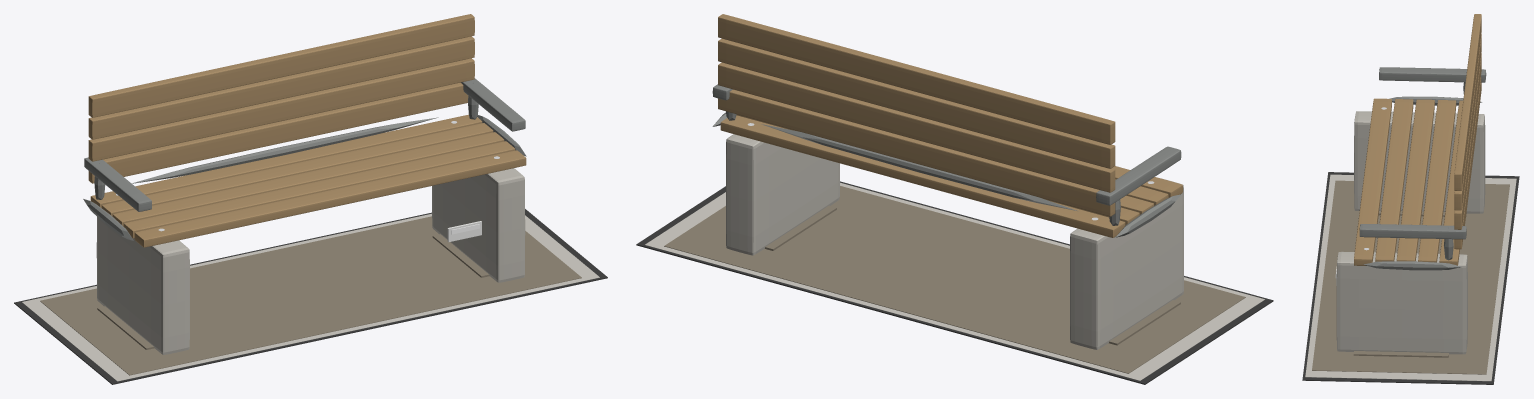
The model's file is hm_prop_bench_v2.glb.
3 views of the same model, side by side, from view 1: azimuth 30°, elevation 25°; view 2: azimuth 150°, elevation 25°; view 3: azimuth 270°, elevation 25° (orthographic). The views are drawn at different scales.
Parts seen in each view (by area): view 1: hm_prop_bench_v2_Dirt, Bench_Back_3, Bench_Leg_-1, Bench_Back_2, Bench_Back_1, Bench_Back_0, Bench_Leg_1, Bench_Seat_0, hm_prop_bench_v2_SaltRing, Bench_Seat_1, Bench_Seat_2, Bench_Seat_3 (+8 smaller); view 2: hm_prop_bench_v2_Dirt, Bench_Leg_-1, Bench_Back_3, Bench_Leg_1, Bench_Back_2, Bench_Back_1, Bench_Back_0, Bench_Seat_4, hm_prop_bench_v2_SaltRing, hm_prop_bench_v2_Shadow, Bench_Rail, Bench_Arm_-1 (+4 smaller); view 3: hm_prop_bench_v2_Dirt, Bench_Leg_1, hm_prop_bench_v2_SaltRing, Bench_Leg_-1, Bench_Seat_0, Bench_Seat_1, Bench_Seat_3, Bench_Seat_2, hm_prop_bench_v2_Shadow, Bench_Back_3, Bench_Arm_1, Bench_Arm_-1 (+8 smaller).
Part boxes in pixels (bbox=[...]): hm_prop_bench_v2_Dirt: bbox=[40, 216, 581, 375]; Bench_Back_3: bbox=[88, 14, 474, 117]; Bench_Leg_-1: bbox=[96, 217, 189, 354]; Bench_Back_2: bbox=[88, 36, 474, 139]; Bench_Back_1: bbox=[88, 58, 474, 161]; Bench_Back_0: bbox=[88, 82, 468, 183]; Bench_Leg_1: bbox=[432, 168, 525, 282]; Bench_Seat_0: bbox=[134, 150, 526, 247]; hm_prop_bench_v2_SaltRing: bbox=[22, 213, 599, 381]; Bench_Seat_1: bbox=[123, 141, 515, 238]; Bench_Seat_2: bbox=[112, 132, 504, 226]; Bench_Seat_3: bbox=[101, 123, 493, 216]; hm_prop_bench_v2_Dirt: bbox=[664, 186, 1245, 373]; Bench_Leg_-1: bbox=[1070, 178, 1183, 349]; Bench_Back_3: bbox=[718, 14, 1115, 144]; Bench_Leg_1: bbox=[726, 134, 839, 255]; Bench_Back_2: bbox=[718, 38, 1115, 168]; Bench_Back_1: bbox=[718, 62, 1115, 192]; Bench_Back_0: bbox=[718, 89, 1115, 216]; Bench_Seat_4: bbox=[720, 115, 1125, 237]; hm_prop_bench_v2_SaltRing: bbox=[645, 182, 1264, 380]; hm_prop_bench_v2_Shadow: bbox=[636, 181, 1273, 384]; Bench_Rail: bbox=[761, 124, 1078, 211]; Bench_Arm_-1: bbox=[1096, 146, 1181, 205]; hm_prop_bench_v2_Dirt: bbox=[1312, 180, 1509, 374]; Bench_Leg_1: bbox=[1336, 251, 1467, 354]; hm_prop_bench_v2_SaltRing: bbox=[1305, 174, 1516, 381]; Bench_Leg_-1: bbox=[1354, 111, 1485, 213]; Bench_Seat_0: bbox=[1354, 98, 1391, 265]; Bench_Seat_1: bbox=[1375, 99, 1413, 261]; Bench_Seat_3: bbox=[1418, 100, 1456, 262]; Bench_Seat_2: bbox=[1396, 99, 1434, 261]; hm_prop_bench_v2_Shadow: bbox=[1302, 172, 1519, 384]; Bench_Back_3: bbox=[1454, 14, 1481, 190]; Bench_Arm_1: bbox=[1359, 224, 1466, 239]; Bench_Arm_-1: bbox=[1379, 67, 1486, 82].
Bounding box in the file's own units: 2.11 × 0.8639 × 0.9122.
